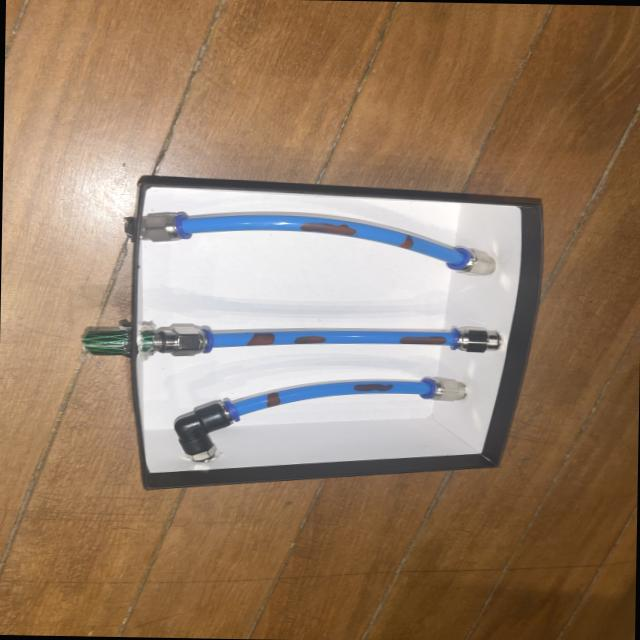hose_damage: (300, 220, 360, 238), (398, 334, 448, 346), (246, 329, 274, 346), (261, 389, 283, 409), (352, 382, 395, 392), (395, 233, 418, 251), (292, 334, 326, 344)
